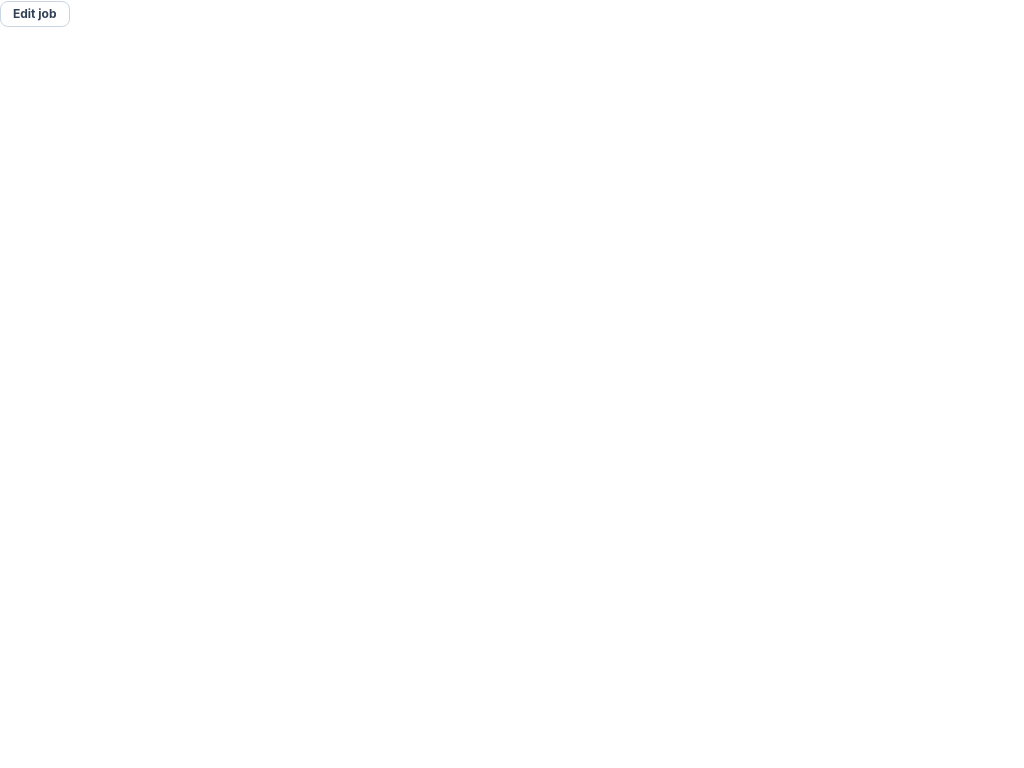
Scenario: careers client components › offers a direct KYC verification link when job creation returns 403 and supports editing an existing job
Earlier steps of the test are not shown.
Later steps or results of the test are not shown.
Click the button "Edit job".
click(35, 14)  # box [0,1,70,27]
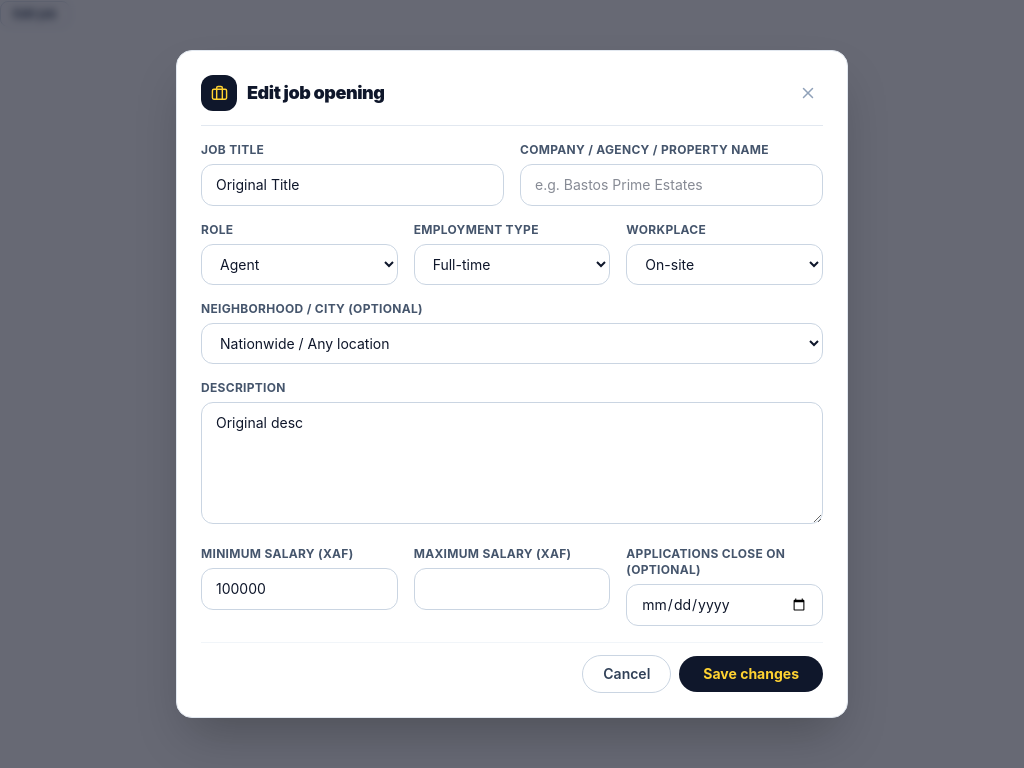
Check: the field labelled "Job title" holds "Original Title", box [201,164,504,206]
